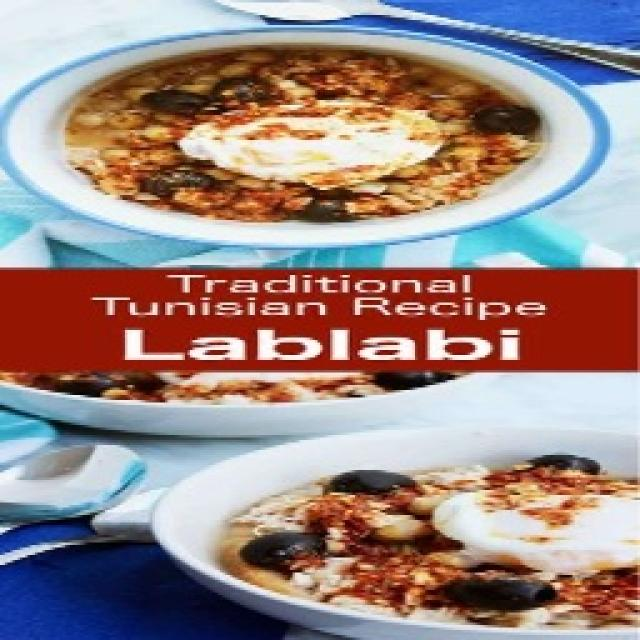Lablabi: (60, 38, 548, 228), (225, 458, 640, 635)
